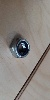Nut: (10, 34, 32, 61)
